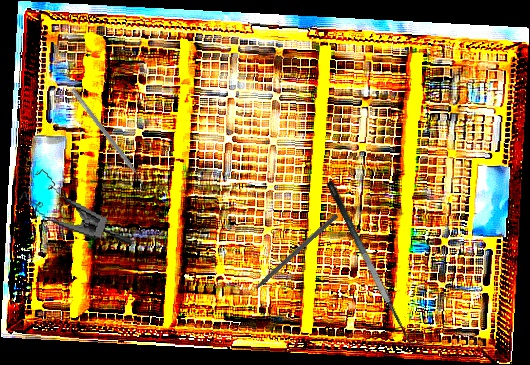Hook Surgical: (242, 212, 339, 300)
Spatula Surgical: (325, 173, 426, 353), (66, 87, 148, 189)
Speculum: (14, 166, 143, 247)
